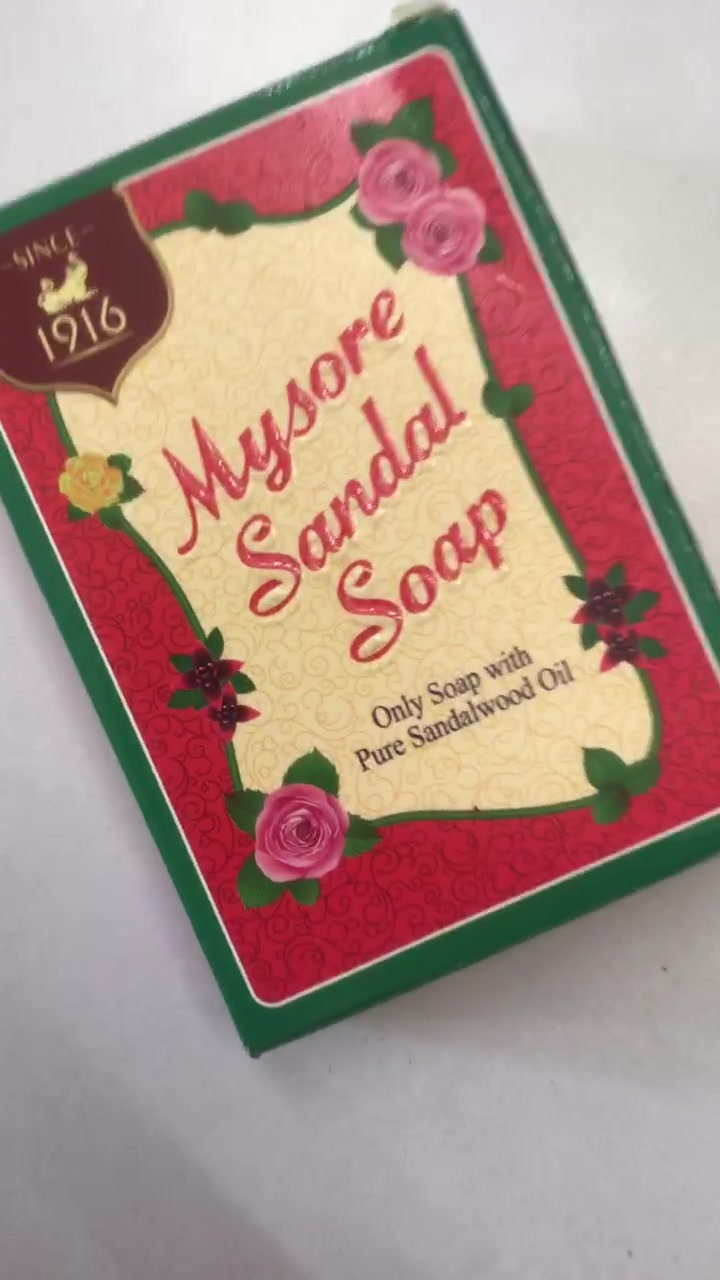mysore sandal soap: (2, 34, 720, 1049)
